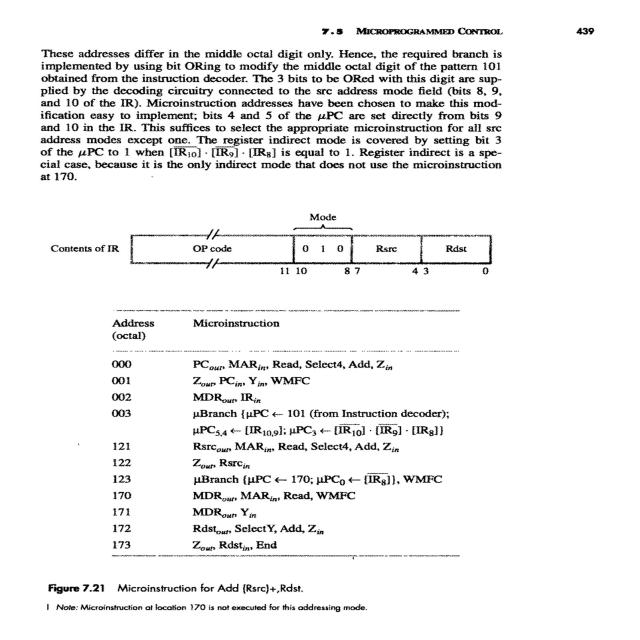diagram: (0, 197, 553, 628)
